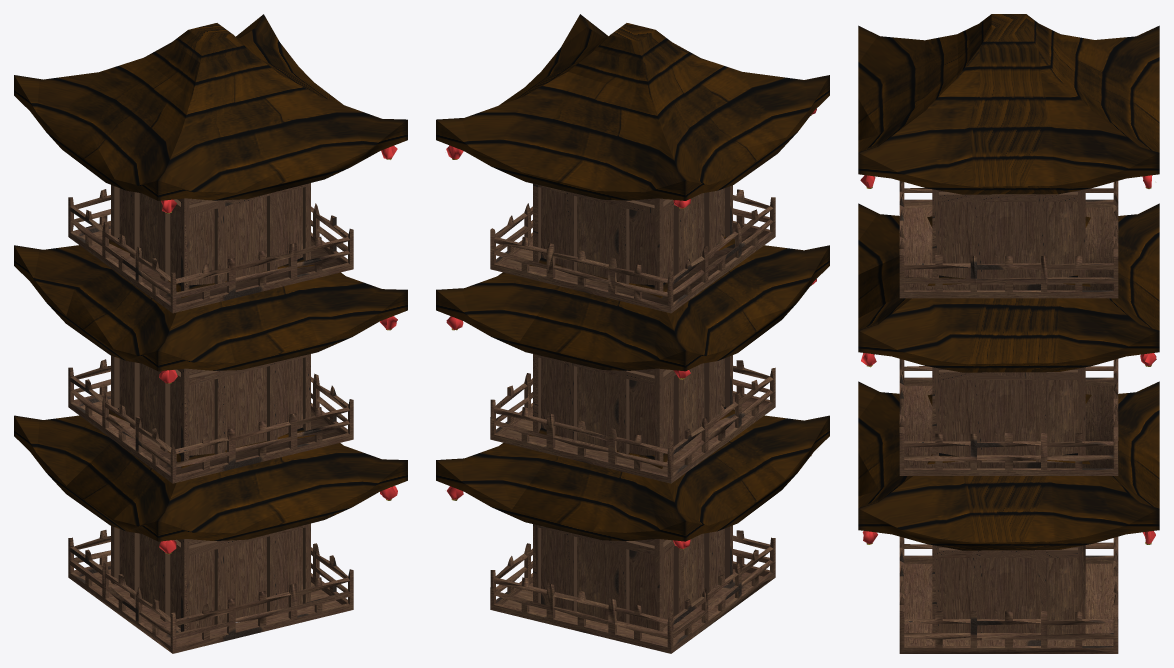
The model's file is Templo_Joshua_Lopez.fbx.
3 views of the same model, side by side, from view 1: azimuth 30°, elevation 25°; view 2: azimuth 150°, elevation 25°; view 3: azimuth 270°, elevation 25° (orthographic). The views are drawn at different scales.
Visible parts, largest first — view 1: Sphere.007; view 2: Sphere.007; view 3: Sphere.007.
Part boxes in pixels (<box>): Sphere.007: <box>14,14,407,653</box>; Sphere.007: <box>436,14,829,653</box>; Sphere.007: <box>858,14,1159,653</box>.
Bounding box in the file's own units: 67.04 × 145 × 67.01.
Materials: 4 (2 with a texture image).
